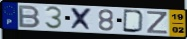3: (43, 5, 63, 30)
8: (98, 9, 115, 32)
B: (18, 5, 42, 29)
D: (122, 9, 146, 34)
X: (70, 7, 94, 31)
Z: (146, 10, 170, 35)
